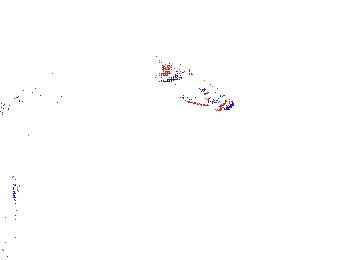X-ray fish: (21, 132, 72, 165)
redtail glassfish: (157, 57, 236, 113), (1, 173, 25, 260)
